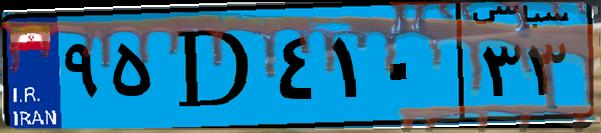0: (385, 28, 445, 110)
1: (330, 28, 385, 110)
3: (475, 38, 525, 113), (525, 38, 570, 115)
4: (270, 28, 330, 110)
5: (110, 28, 158, 98)
9: (57, 26, 110, 100)
D: (158, 12, 270, 120)
